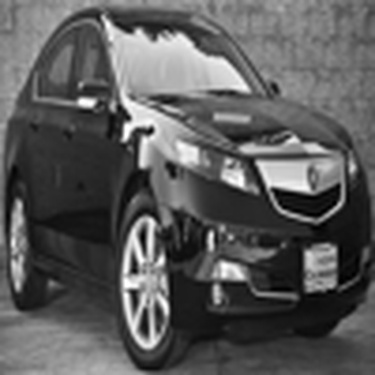car: (3, 2, 371, 372)
